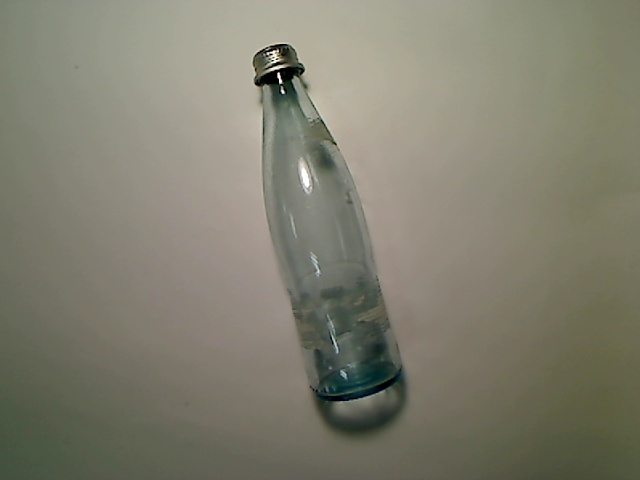bottle: (252, 41, 403, 402)
